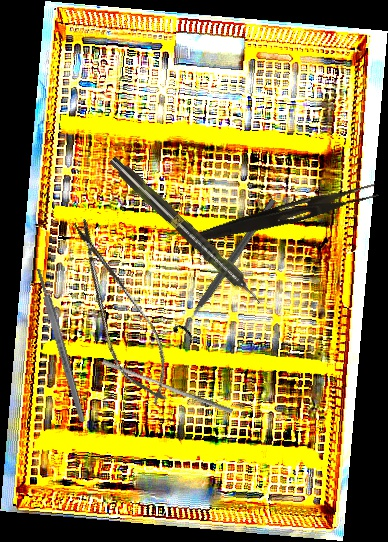Dressing Forceps: (190, 176, 379, 253)
Fixation Ring: (170, 192, 285, 344)
Handpiece: (105, 152, 267, 310)
Micro Scissor: (54, 211, 185, 413)
Pusher: (99, 358, 236, 415)
Scalpel Handle: (34, 267, 87, 424)
